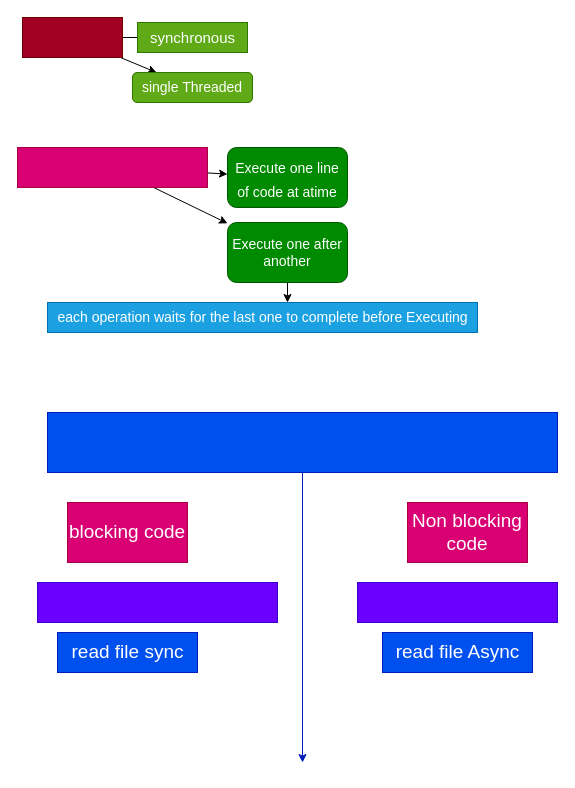
The diagram is 575 pixels wide and 788 high, and some of its shapes have lost their labels. The shapes that lost their labels are listed below. From the top down, each one's centre as x and y in pixels, then its label:
At point 72,37: "javascript".
At point 112,167: "Execution Context".
At point 302,442: "Blocking code vs Non Blocking code".
At point 157,602: "block the flow of program".
At point 457,602: "don't block execution".
